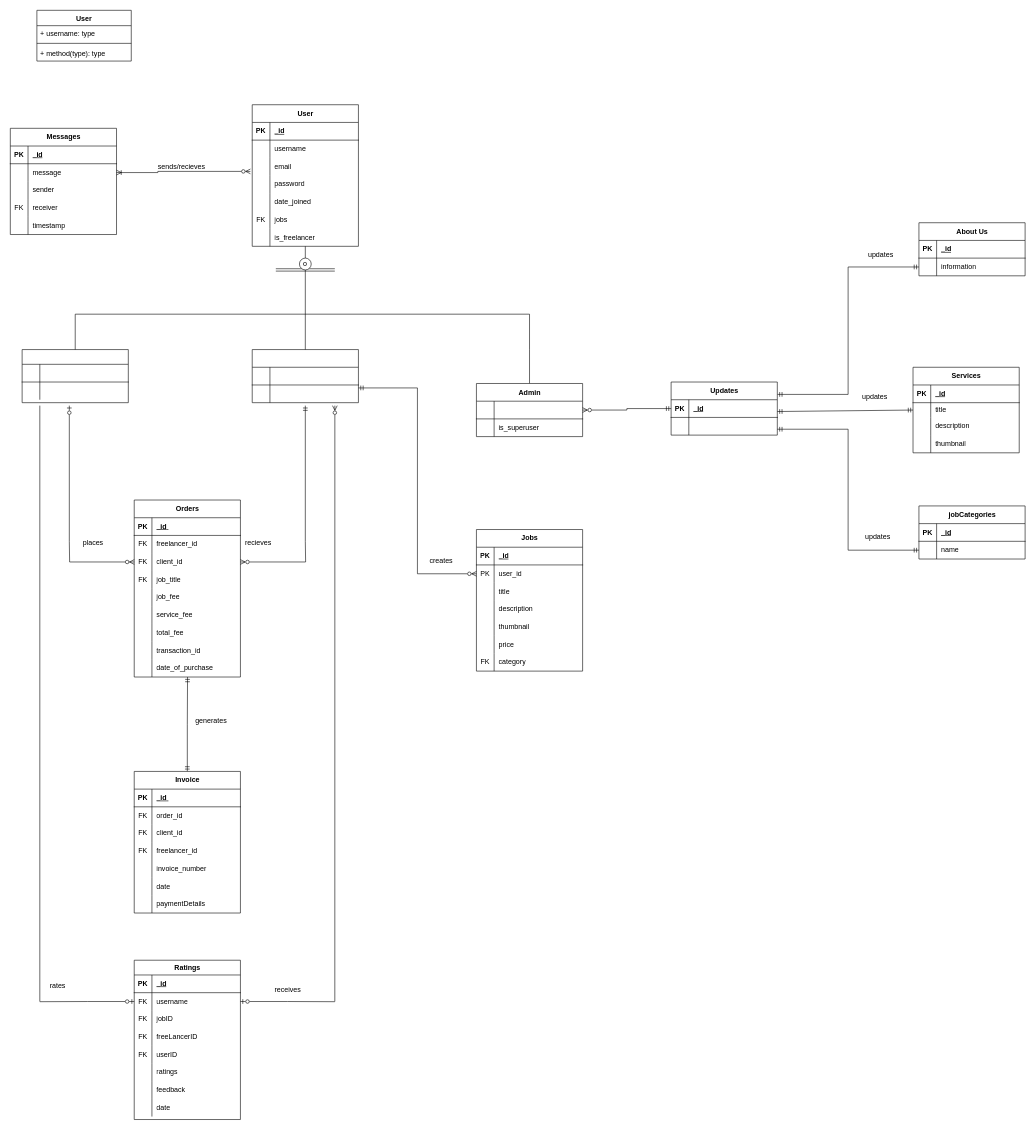
Image size: 1035x1130. Some labels were removed from this diagram. The centre of each missing label's shape, as x and y in pixels:
Client: (x=75, y=376)
FreeLancer: (x=305, y=376)
